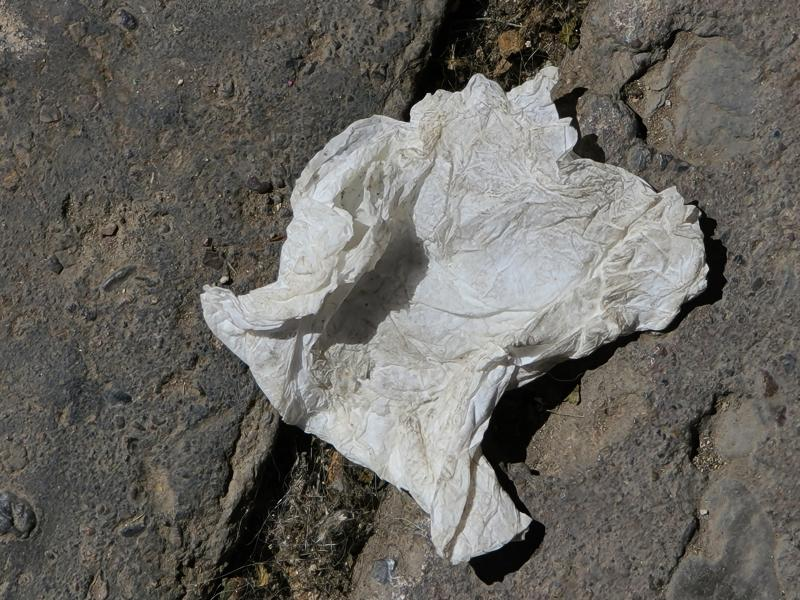papel: (199, 66, 710, 568)
